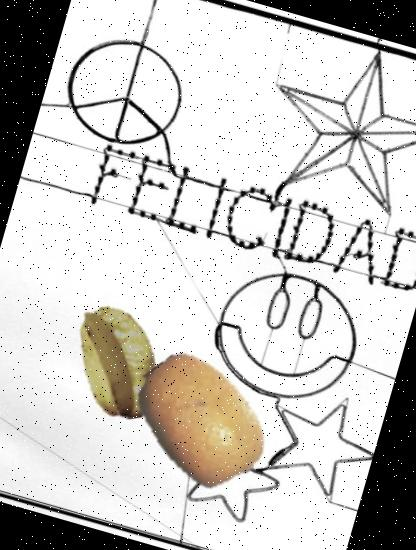Carambula: (48, 292, 190, 433)
Kumquats: (114, 333, 288, 506)
